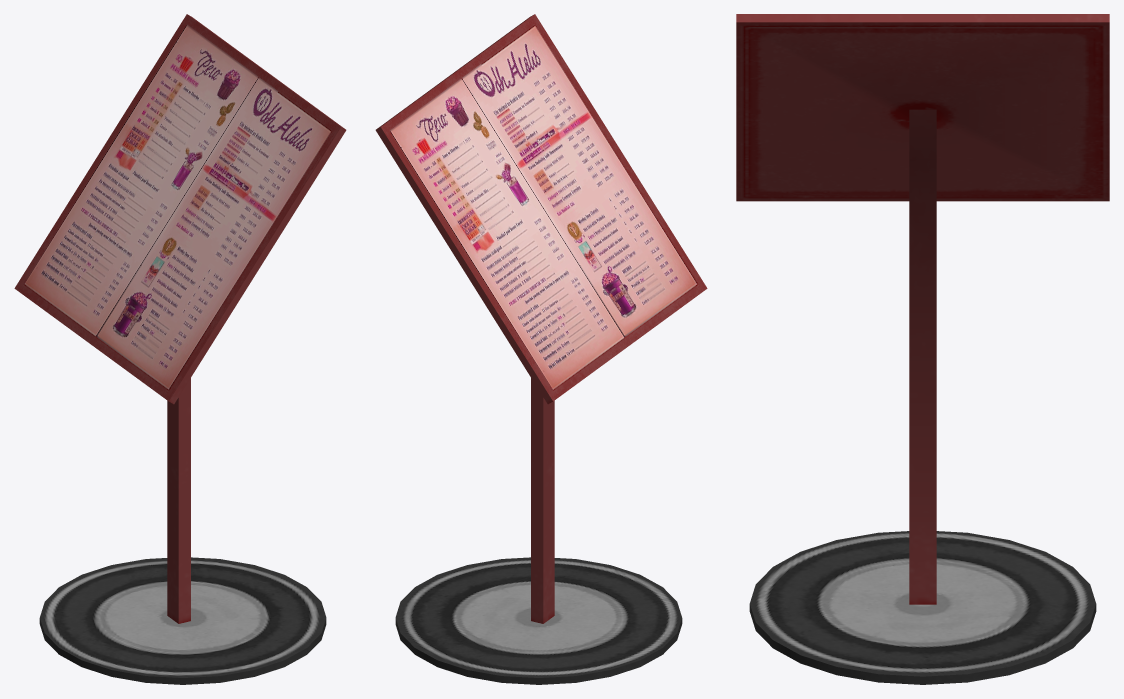
The model's file is MB_Cafe_Menu_02.fbx.
3 views of the same model, side by side, from view 1: azimuth 30°, elevation 25°; view 2: azimuth 150°, elevation 25°; view 3: azimuth 270°, elevation 25° (orthographic). The views are drawn at different scales.
Parts seen in each view (by area): view 1: MB_Cafe_Menu_02; view 2: MB_Cafe_Menu_02; view 3: MB_Cafe_Menu_02.
Boxes of the visible parts, x1,y1,x2,y2 form: MB_Cafe_Menu_02: [14, 14, 346, 684]; MB_Cafe_Menu_02: [375, 14, 707, 684]; MB_Cafe_Menu_02: [736, 14, 1109, 684].
Size of the model in its own units: 69.7 by 143 by 75.1.
